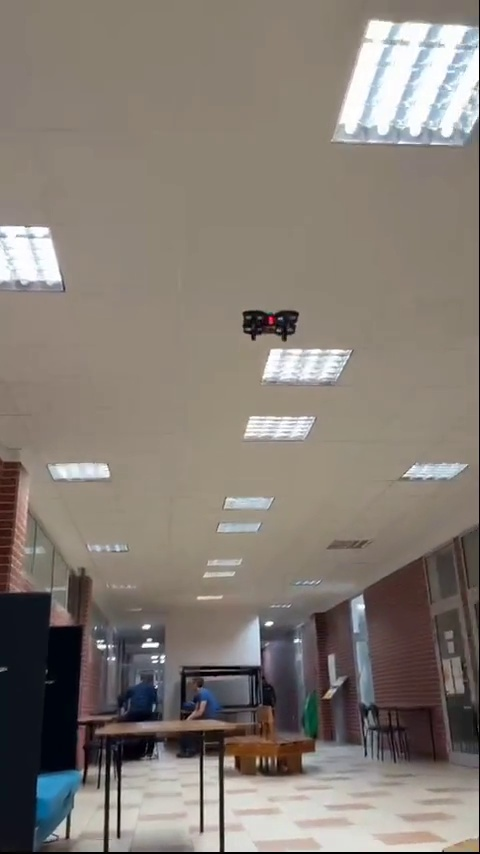drone: (243, 311, 299, 342)
no vest: (182, 677, 224, 725), (117, 674, 159, 719)
